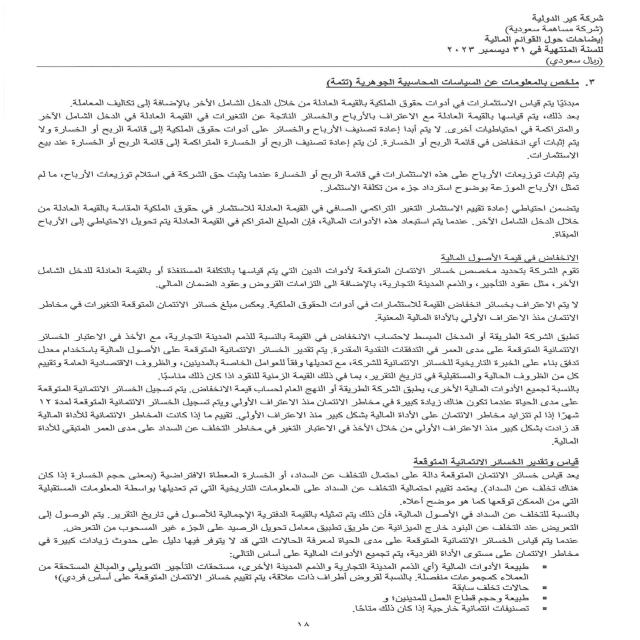notes: (476, 34, 616, 46)
text: (21, 75, 598, 633)
